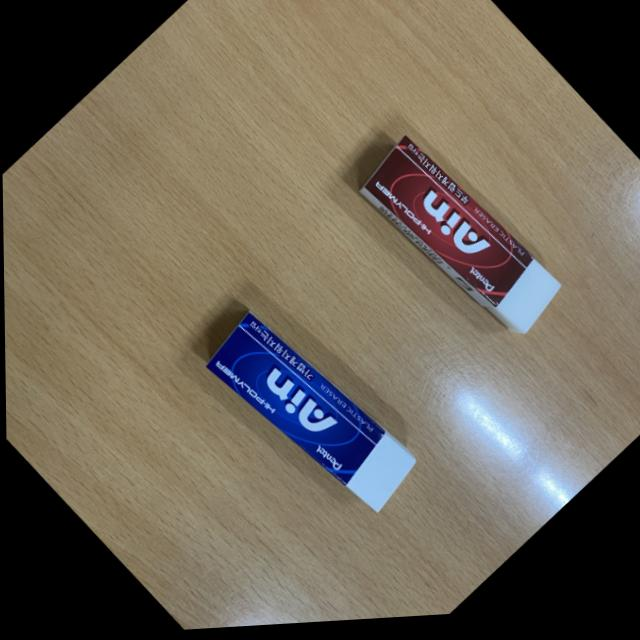blue: (181, 276, 434, 555)
red: (349, 121, 572, 367)
